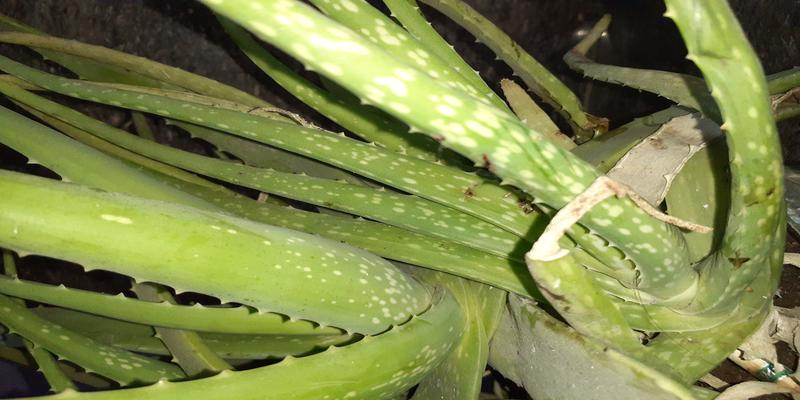Aloevera: (123, 54, 750, 381)
